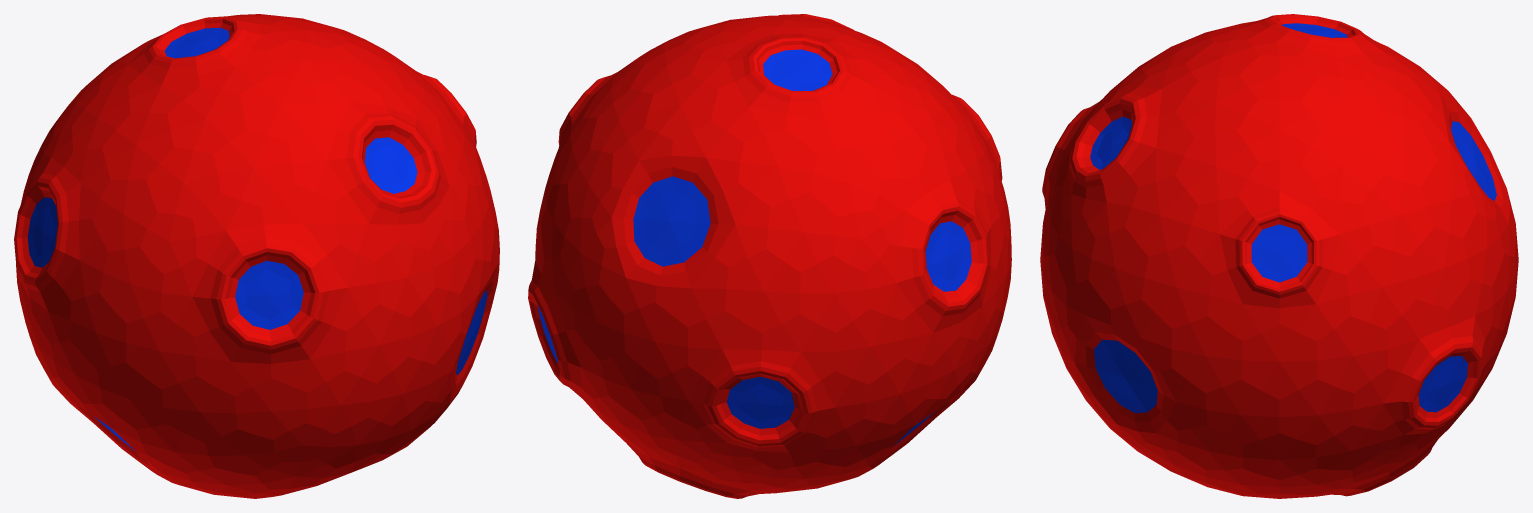
Rendered from GameAssetPlanetRed.fbx.
3 views of the same model, side by side, from view 1: azimuth 30°, elevation 25°; view 2: azimuth 150°, elevation 25°; view 3: azimuth 270°, elevation 25° (orthographic).
Parts seen in each view (by area): view 1: Planet; view 2: Planet; view 3: Planet.
Boxes of the visible parts, x1,y1,x2,y2 form: Planet: (14, 14, 499, 498); Planet: (528, 14, 1011, 498); Planet: (1040, 14, 1518, 498).
Size of the model in its own units: 309 by 310 by 304.
